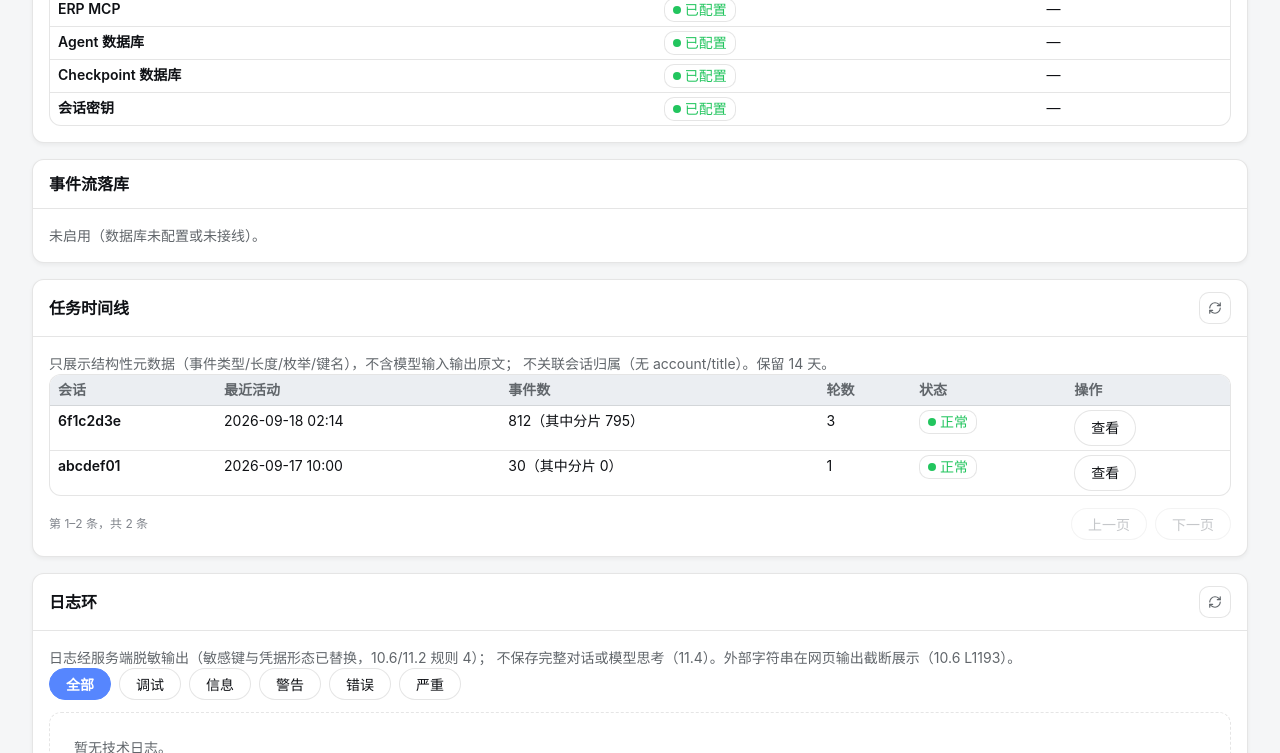
Test case: StreamTimelinePanel 任务时间线 › 34 新增 payload 键渲染中文名（压缩判定 + 决策轮输入摘要）
(page scrolled)
Click the button "查看" in the row of "6f1c2d3e".
click(1105, 428)  # box [1074,410,1136,446]
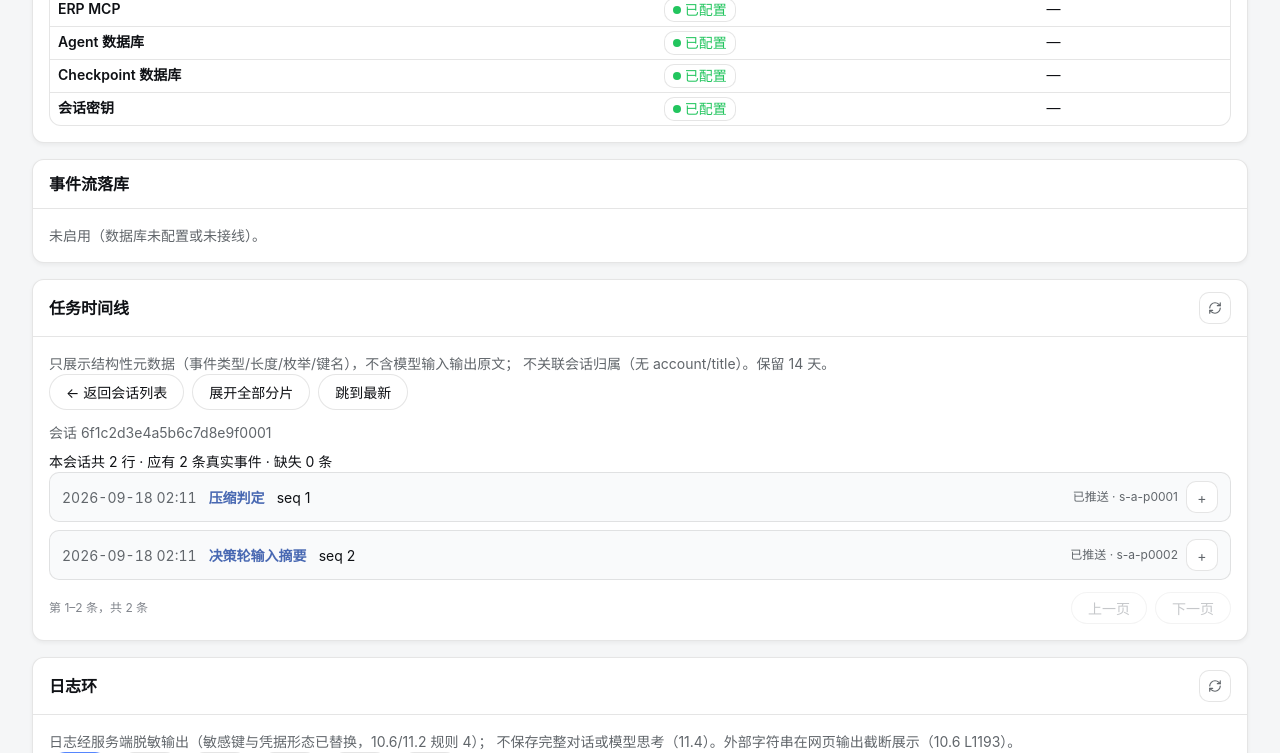
expect the button "← 返回会话列表" is shown: met, box [49,374,184,410]
expect the number of buttons named "展开事件明细" is 2: met
Click the button named "展开事件明细".
click(1202, 497)  # box [1186,481,1218,513]
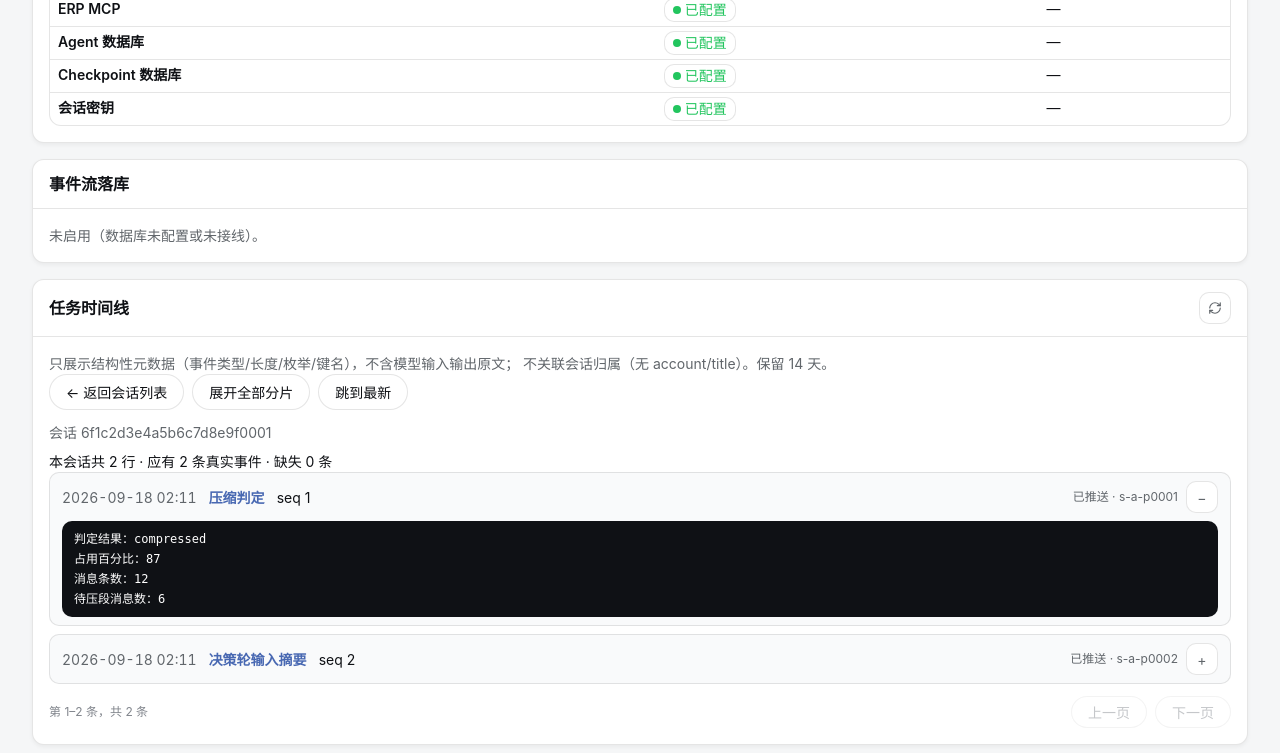
expect the text "判定结果：compressed" is shown: met, box [74,532,206,546]
expect the text "占用百分比：87" is shown: met, box [74,552,160,566]
expect the text "消息条数：12" is shown: met, box [74,572,148,586]
Click the button named "展开事件明细".
click(1202, 659)  # box [1186,643,1218,675]
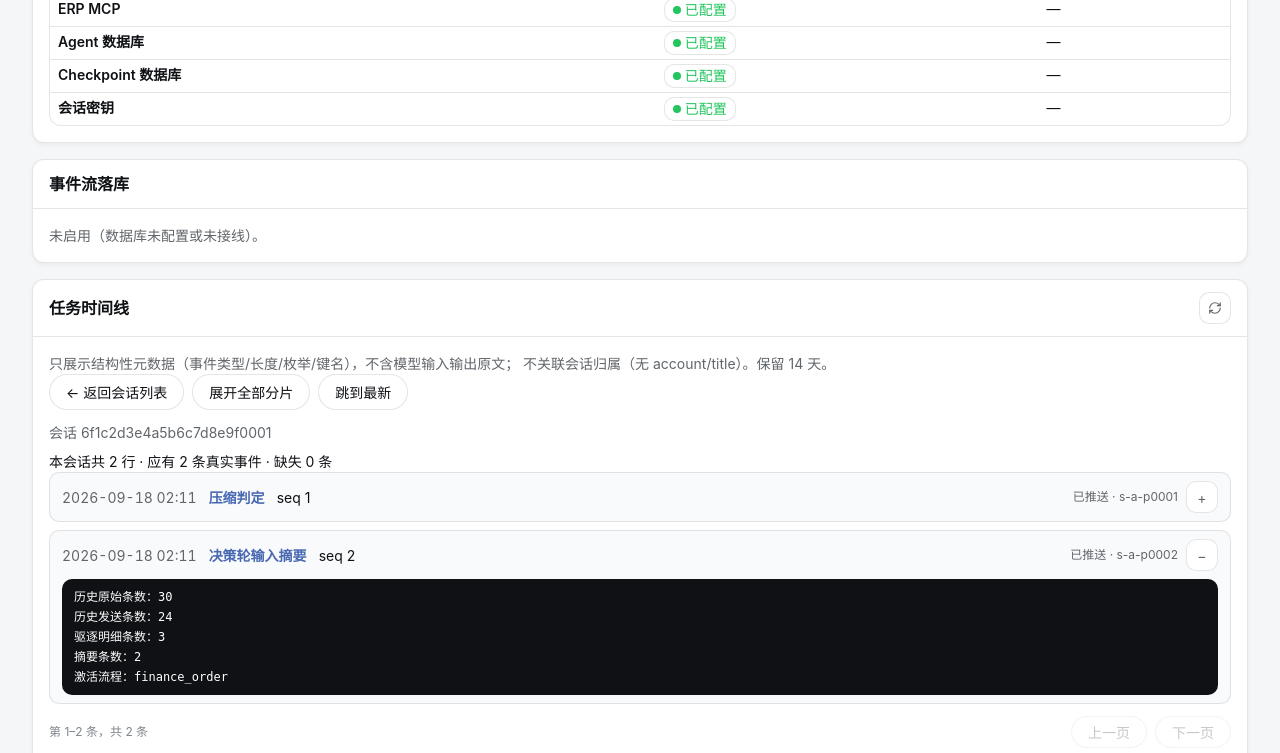
expect the text "历史原始条数：30" is shown: met, box [74,590,172,604]
expect the text "历史发送条数：24" is shown: met, box [74,610,172,624]
expect the text "驱逐明细条数：3" is shown: met, box [74,630,165,644]
